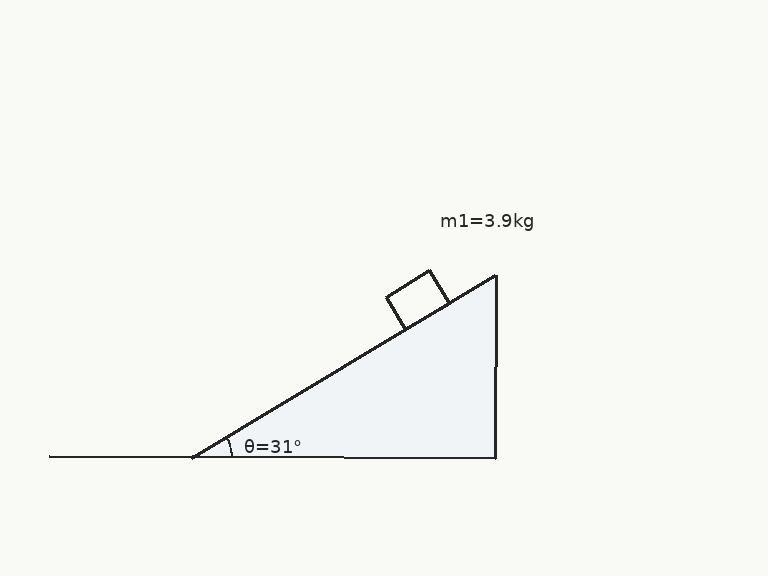block: (384, 268, 451, 331)
ramp: (190, 273, 497, 459)
